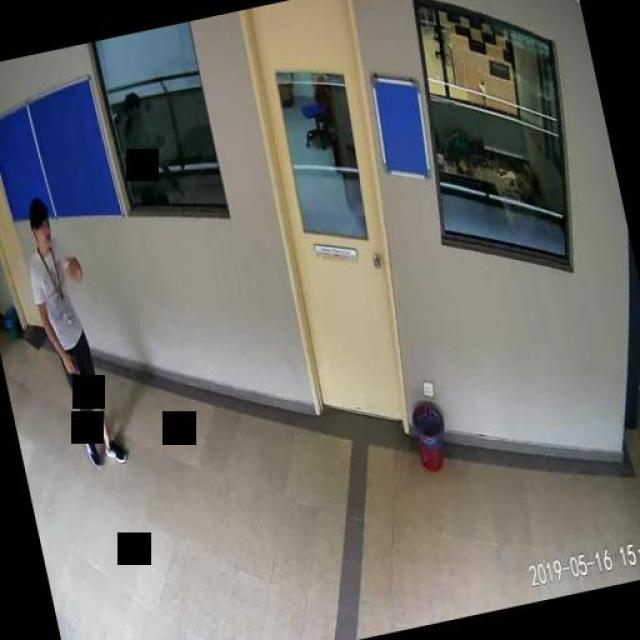gun: (61, 348, 85, 394)
